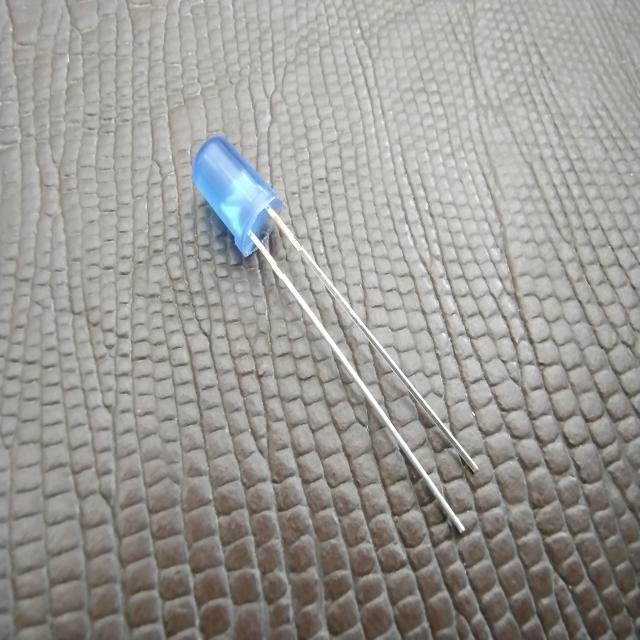blue_led: (191, 133, 284, 259)
